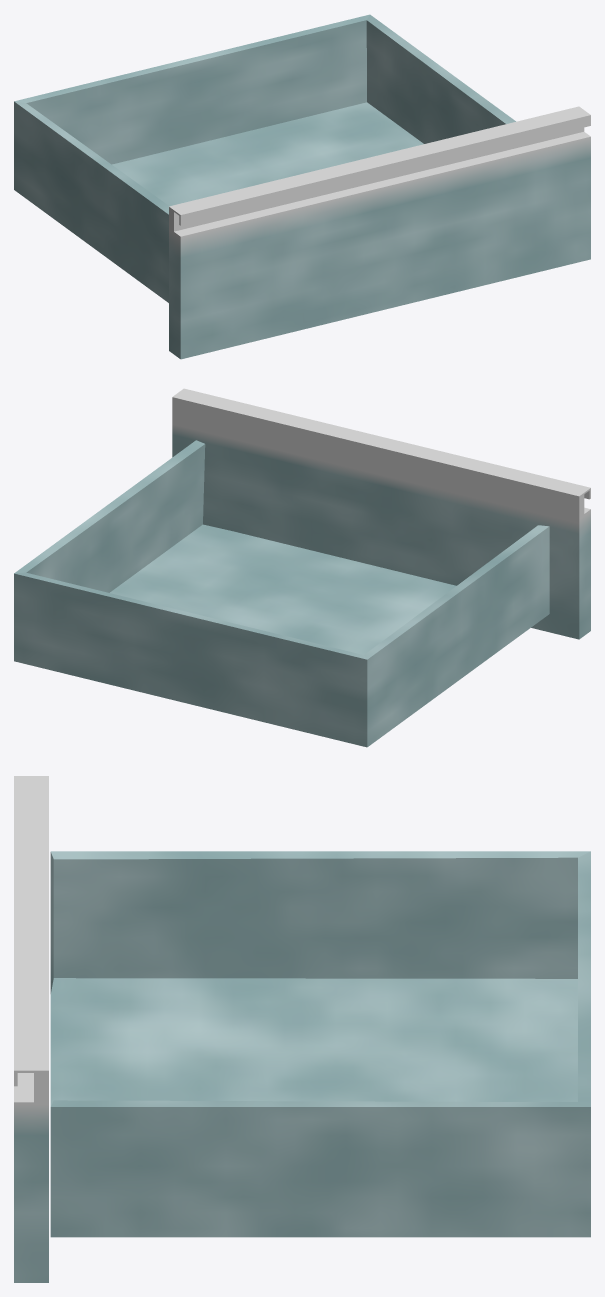
The model's file is lower_shelf_left_extendable_door.fbx.
The picture shows the model from 3 angles, top to bottom: view 1: azimuth 30°, elevation 25°; view 2: azimuth 150°, elevation 25°; view 3: azimuth 270°, elevation 25°; orthographic projection. The views are drawn at different scales.
Visible parts, largest first — view 1: lower_shelf_left_extendable_door_Baked; view 2: lower_shelf_left_extendable_door_Baked; view 3: lower_shelf_left_extendable_door_Baked.
Part boxes in pixels (x1,y1,x2,y2): lower_shelf_left_extendable_door_Baked: (14, 14, 590, 359); lower_shelf_left_extendable_door_Baked: (14, 388, 590, 747); lower_shelf_left_extendable_door_Baked: (14, 776, 590, 1282).
Bounding box in the file's own units: 39.8 × 13.38 × 32.95.
